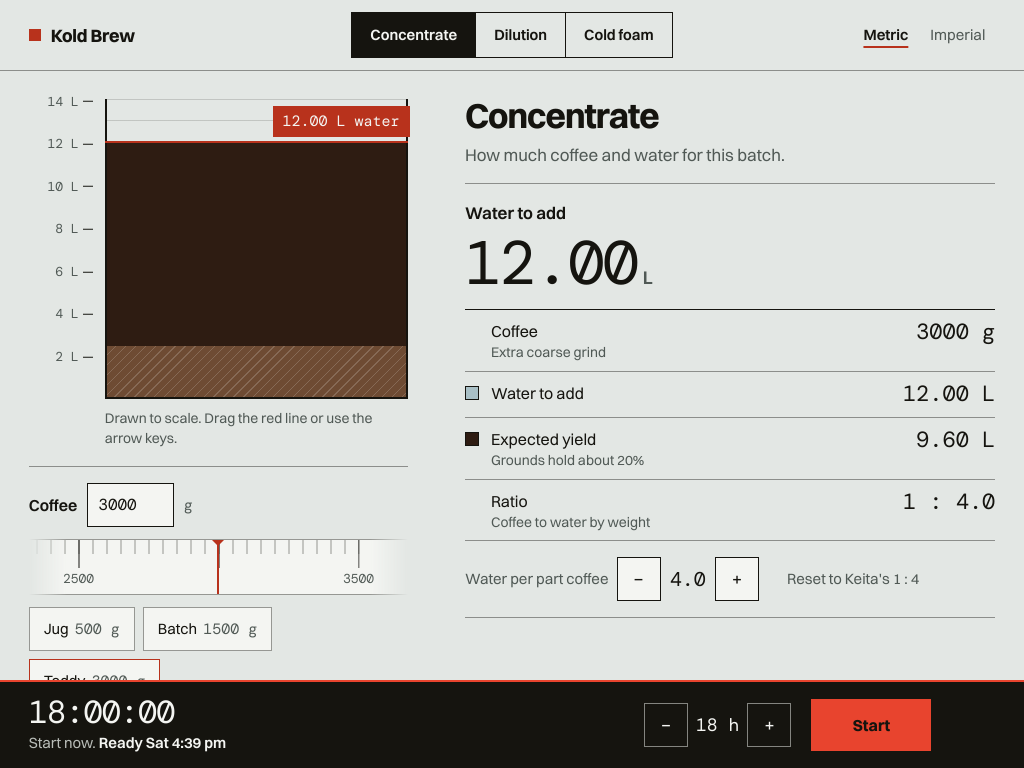
Scenario: Calculators › imperial unit converts and persists across routes
Click the button "Imperial".
click(958, 35)  # box top-left (920, 13), bottom-right (995, 57)
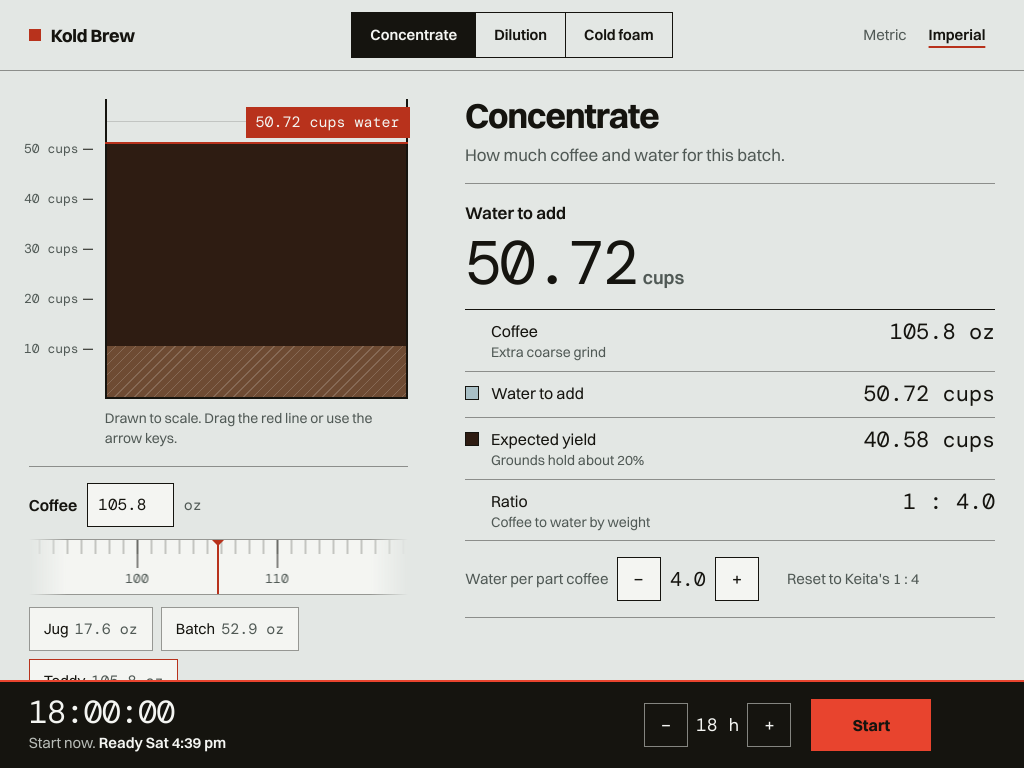
expect the element with test id "lead-value" reads "50.72 cups": met, box top-left (465, 223), bottom-right (684, 303)
Click the link "Dilution".
click(521, 35)  # box top-left (476, 13), bottom-right (566, 57)
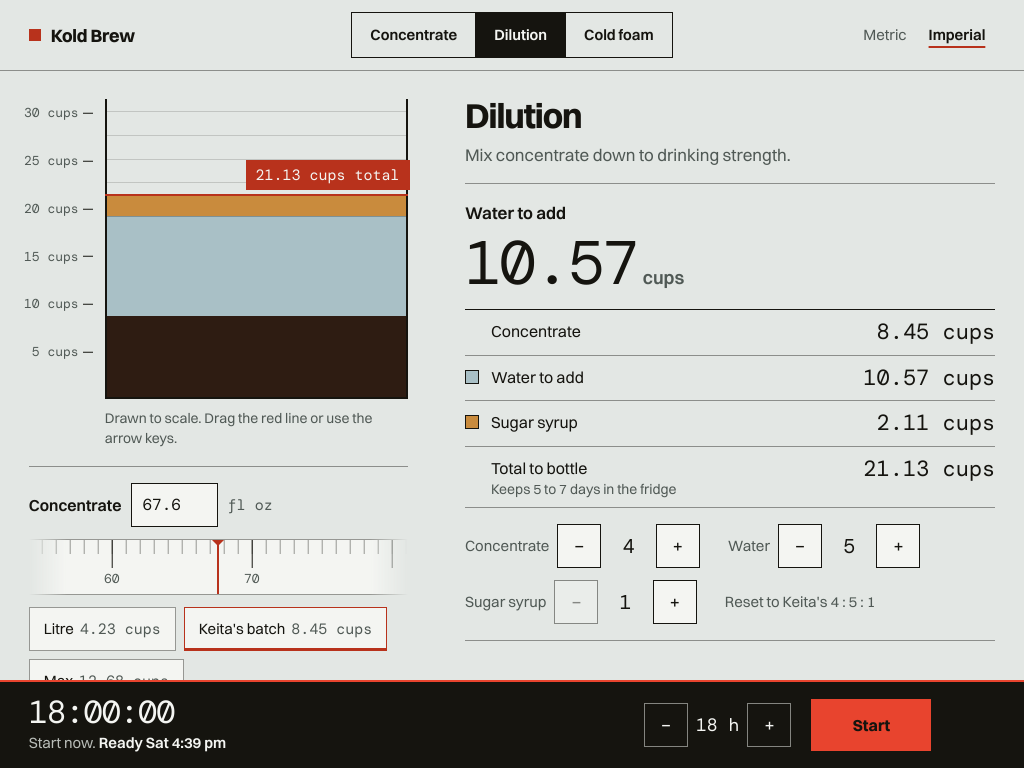
expect the element with test id "lead-value" reads "10.57 cups": met, box top-left (465, 223), bottom-right (684, 303)
